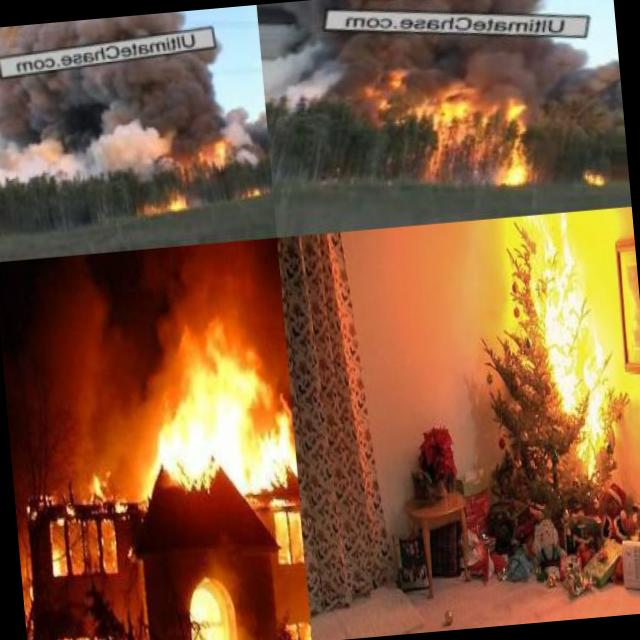fire: (147, 322, 299, 507), (530, 210, 616, 478), (42, 458, 132, 579), (428, 92, 530, 144), (264, 508, 306, 573), (495, 134, 543, 185), (364, 64, 412, 112), (134, 185, 194, 218), (194, 126, 235, 172), (280, 603, 312, 640), (49, 625, 120, 640), (580, 158, 610, 188), (20, 568, 32, 636), (234, 186, 263, 206)
smoke: (0, 90, 183, 190), (407, 34, 600, 100), (260, 36, 366, 114)
